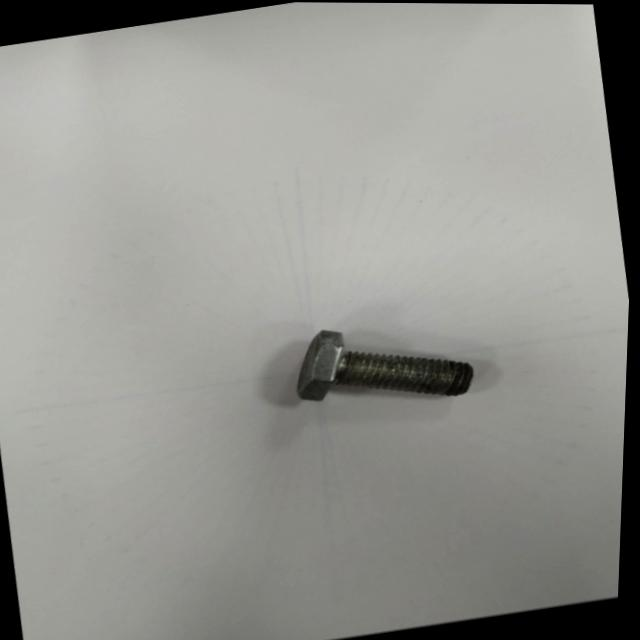Bolt: (300, 331, 477, 399)
